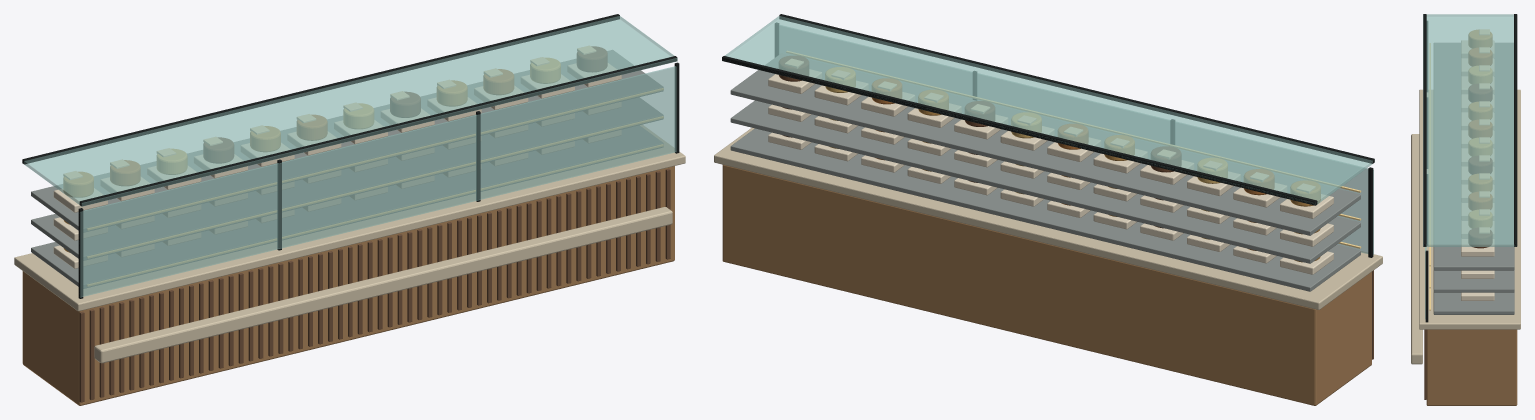
Rendered from best.glb.
3 views of the same model, side by side, from view 1: azimuth 30°, elevation 25°; view 2: azimuth 150°, elevation 25°; view 3: azimuth 270°, elevation 25° (orthographic). The views are drawn at different scales.
Parts seen in each view (by area): view 1: starbucksDisplay_181, starbucksDisplay_182, starbucksDisplay_0, starbucksDisplay_139, starbucksDisplay_61, starbucksDisplay_63, starbucksDisplay_101, starbucksDisplay_62, starbucksDisplay_184, starbucksDisplay_183, starbucksDisplay_100, starbucksDisplay_176 (+13 smaller); view 2: starbucksDisplay_0, starbucksDisplay_182, starbucksDisplay_139, starbucksDisplay_181, starbucksDisplay_63, starbucksDisplay_101, starbucksDisplay_61, starbucksDisplay_183, starbucksDisplay_184, starbucksDisplay_176, starbucksDisplay_140, starbucksDisplay_64 (+12 smaller); view 3: starbucksDisplay_182, starbucksDisplay_139, starbucksDisplay_0, starbucksDisplay_61, starbucksDisplay_62, starbucksDisplay_101, starbucksDisplay_63, starbucksDisplay_183, starbucksDisplay_184, starbucksDisplay_176, starbucksDisplay_173, starbucksDisplay_174 (+26 smaller).
Boxes of the visible parts, bbox=[...] form: starbucksDisplay_181: bbox=[80, 66, 676, 297]; starbucksDisplay_182: bbox=[24, 16, 677, 206]; starbucksDisplay_0: bbox=[22, 166, 674, 405]; starbucksDisplay_139: bbox=[31, 50, 663, 232]; starbucksDisplay_61: bbox=[14, 125, 685, 311]; starbucksDisplay_63: bbox=[31, 125, 663, 288]; starbucksDisplay_101: bbox=[31, 97, 663, 260]; starbucksDisplay_62: bbox=[94, 207, 672, 363]; starbucksDisplay_184: bbox=[79, 56, 677, 206]; starbucksDisplay_183: bbox=[22, 14, 619, 164]; starbucksDisplay_100: bbox=[87, 144, 663, 286]; starbucksDisplay_176: bbox=[87, 88, 663, 230]; starbucksDisplay_0: bbox=[722, 165, 1371, 405]; starbucksDisplay_182: bbox=[725, 16, 1374, 204]; starbucksDisplay_139: bbox=[730, 53, 1360, 235]; starbucksDisplay_181: bbox=[779, 25, 1373, 254]; starbucksDisplay_63: bbox=[730, 128, 1360, 291]; starbucksDisplay_101: bbox=[730, 100, 1360, 263]; starbucksDisplay_61: bbox=[714, 127, 1382, 309]; starbucksDisplay_183: bbox=[722, 56, 1317, 205]; starbucksDisplay_184: bbox=[779, 14, 1374, 163]; starbucksDisplay_176: bbox=[786, 51, 1361, 192]; starbucksDisplay_140: bbox=[1280, 194, 1333, 218]; starbucksDisplay_64: bbox=[1280, 251, 1333, 274]; starbucksDisplay_182: bbox=[1423, 14, 1516, 246]; starbucksDisplay_139: bbox=[1433, 43, 1514, 270]; starbucksDisplay_0: bbox=[1426, 329, 1517, 405]; starbucksDisplay_61: bbox=[1419, 89, 1520, 329]; starbucksDisplay_62: bbox=[1411, 134, 1422, 364]; starbucksDisplay_101: bbox=[1433, 270, 1514, 292]; starbucksDisplay_63: bbox=[1433, 292, 1514, 314]; starbucksDisplay_183: bbox=[1514, 14, 1517, 246]; starbucksDisplay_184: bbox=[1423, 14, 1426, 246]; starbucksDisplay_176: bbox=[1429, 43, 1430, 266]; starbucksDisplay_173: bbox=[1461, 239, 1494, 256]; starbucksDisplay_174: bbox=[1468, 228, 1492, 248].
Bounding box in the file's own units: 6.12 × 1.98 × 1.21.
